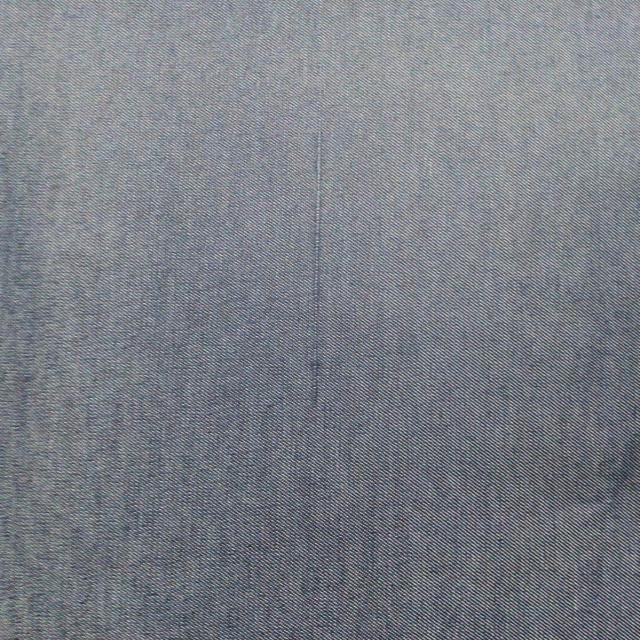Line: (308, 113, 324, 422)
